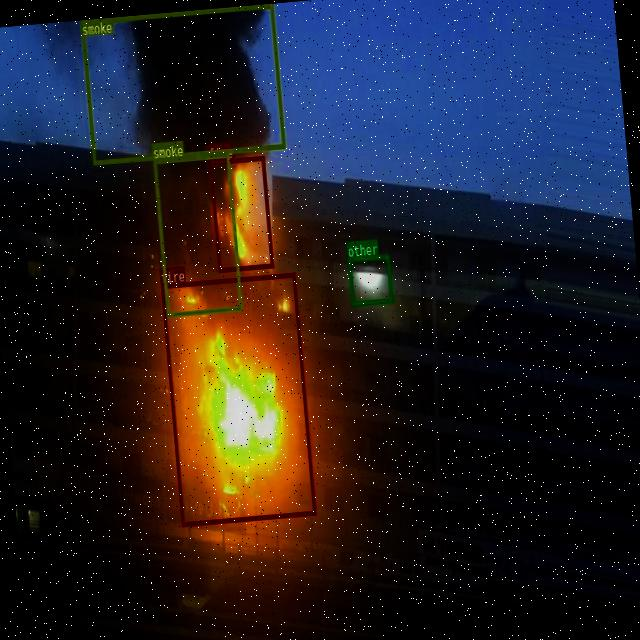fire: (160, 272, 316, 526), (208, 155, 274, 271)
smoke: (80, 3, 286, 163), (153, 152, 242, 316)
